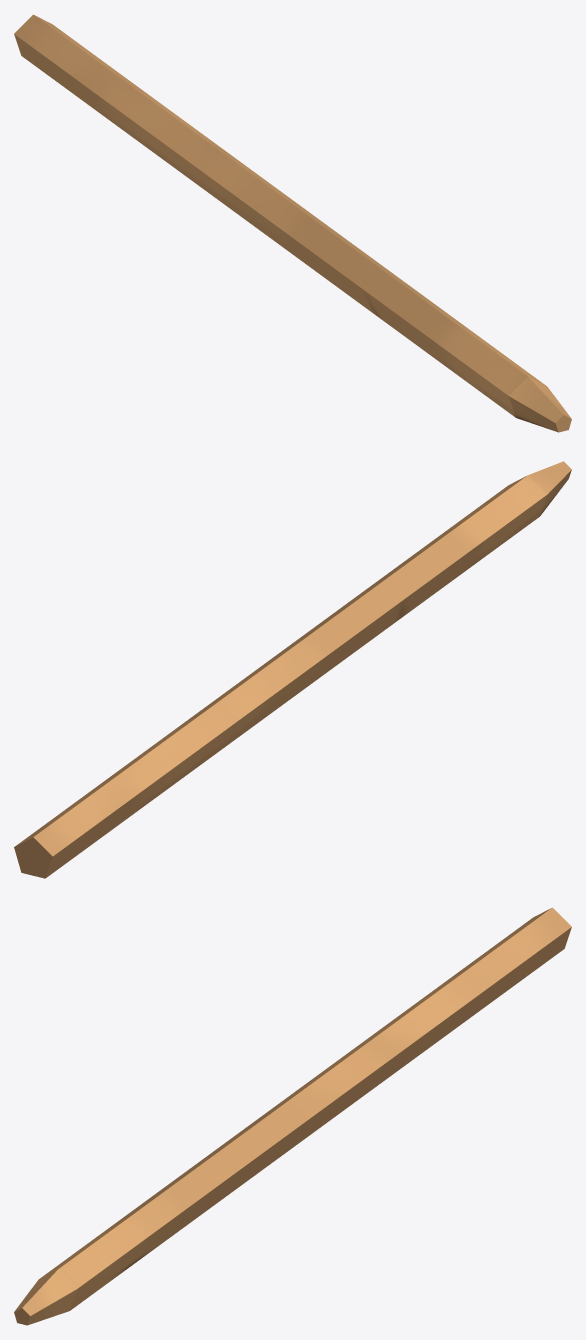
File: pELURU_crossbow.fbx
The picture shows the model from 3 angles, top to bottom: view 1: azimuth 30°, elevation 25°; view 2: azimuth 150°, elevation 25°; view 3: azimuth 330°, elevation 25°; orthographic projection.
Parts seen in each view (by area): view 1: Cube; view 2: Cube; view 3: Cube.
Part boxes in pixels (bbox=[...]): Cube: bbox=[14, 14, 571, 432]; Cube: bbox=[14, 461, 571, 878]; Cube: bbox=[14, 907, 571, 1325].
Bounding box in the file's own units: 8.34 × 7.94 × 198.
